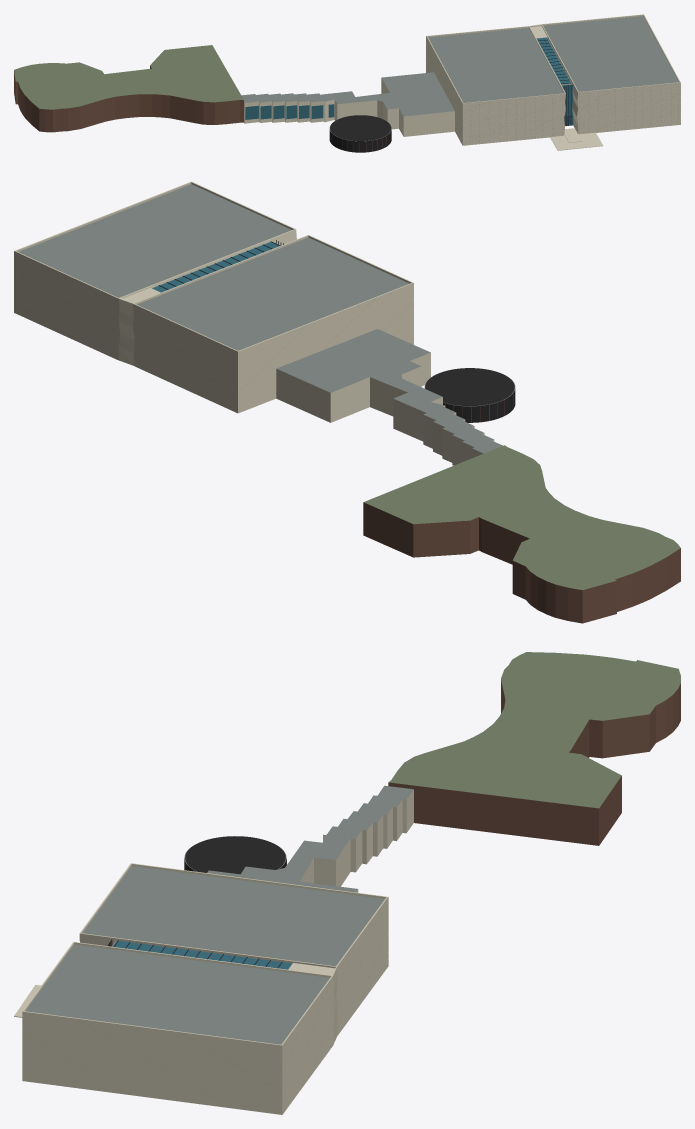
The model's file is memorial-de-caen-near.glb.
3 renders of one model, top to bottom at view 1: azimuth 30°, elevation 25°; view 2: azimuth 150°, elevation 25°; view 3: azimuth 270°, elevation 25°, orthographic. The views are drawn at different scales.
Visible parts, largest first — view 1: memorial-de-caen-0-roof, memorial-de-caen-0-stone, memorial-de-caen-0-softRoof, memorial-de-caen-0-steel, memorial-de-caen-0-metal, memorial-de-caen-0-glass, memorial-de-caen-0-joint, memorial-de-caen-0-stoneWarm; view 2: memorial-de-caen-0-roof, memorial-de-caen-0-stone, memorial-de-caen-0-softRoof, memorial-de-caen-0-steel, memorial-de-caen-0-metal, memorial-de-caen-0-stoneWarm, memorial-de-caen-0-glass; view 3: memorial-de-caen-0-roof, memorial-de-caen-0-stone, memorial-de-caen-0-softRoof, memorial-de-caen-0-steel, memorial-de-caen-0-metal, memorial-de-caen-0-stoneWarm, memorial-de-caen-0-glass.
Part boxes in pixels (box(x1,y1,x2,y2)): memorial-de-caen-0-roof: box(241, 16, 678, 141); memorial-de-caen-0-stone: box(244, 14, 680, 150); memorial-de-caen-0-softRoof: box(14, 45, 243, 109); memorial-de-caen-0-steel: box(14, 66, 386, 151); memorial-de-caen-0-metal: box(329, 39, 572, 152); memorial-de-caen-0-glass: box(245, 37, 573, 125); memorial-de-caen-0-joint: box(462, 82, 680, 145); memorial-de-caen-0-stoneWarm: box(426, 61, 680, 145); memorial-de-caen-0-roof: box(18, 184, 515, 453); memorial-de-caen-0-stone: box(14, 181, 494, 465); memorial-de-caen-0-softRoof: box(364, 445, 680, 590); memorial-de-caen-0-steel: box(363, 394, 680, 623); memorial-de-caen-0-metal: box(158, 240, 515, 422); memorial-de-caen-0-stoneWarm: box(14, 268, 413, 412); memorial-de-caen-0-glass: box(152, 242, 279, 292); memorial-de-caen-0-roof: box(26, 785, 413, 1044); memorial-de-caen-0-stone: box(14, 789, 413, 1114); memorial-de-caen-0-softRoof: box(389, 652, 680, 808); memorial-de-caen-0-steel: box(185, 680, 680, 870); memorial-de-caen-0-metal: box(108, 836, 286, 968); memorial-de-caen-0-stoneWarm: box(22, 909, 388, 1114); memorial-de-caen-0-glass: box(113, 941, 292, 969).
Bounding box in the file's own units: 197 × 15 × 131.
